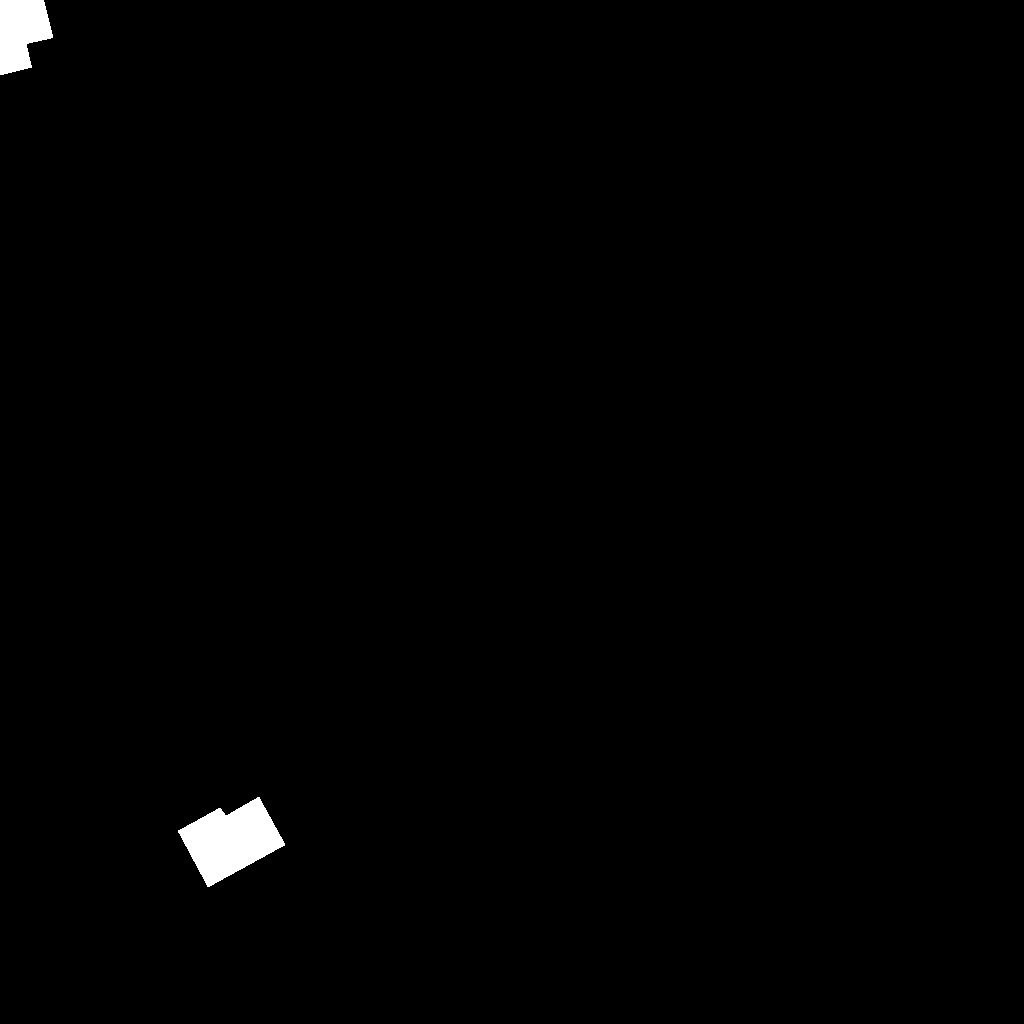building: (178, 797, 286, 888), (0, 0, 54, 76)
